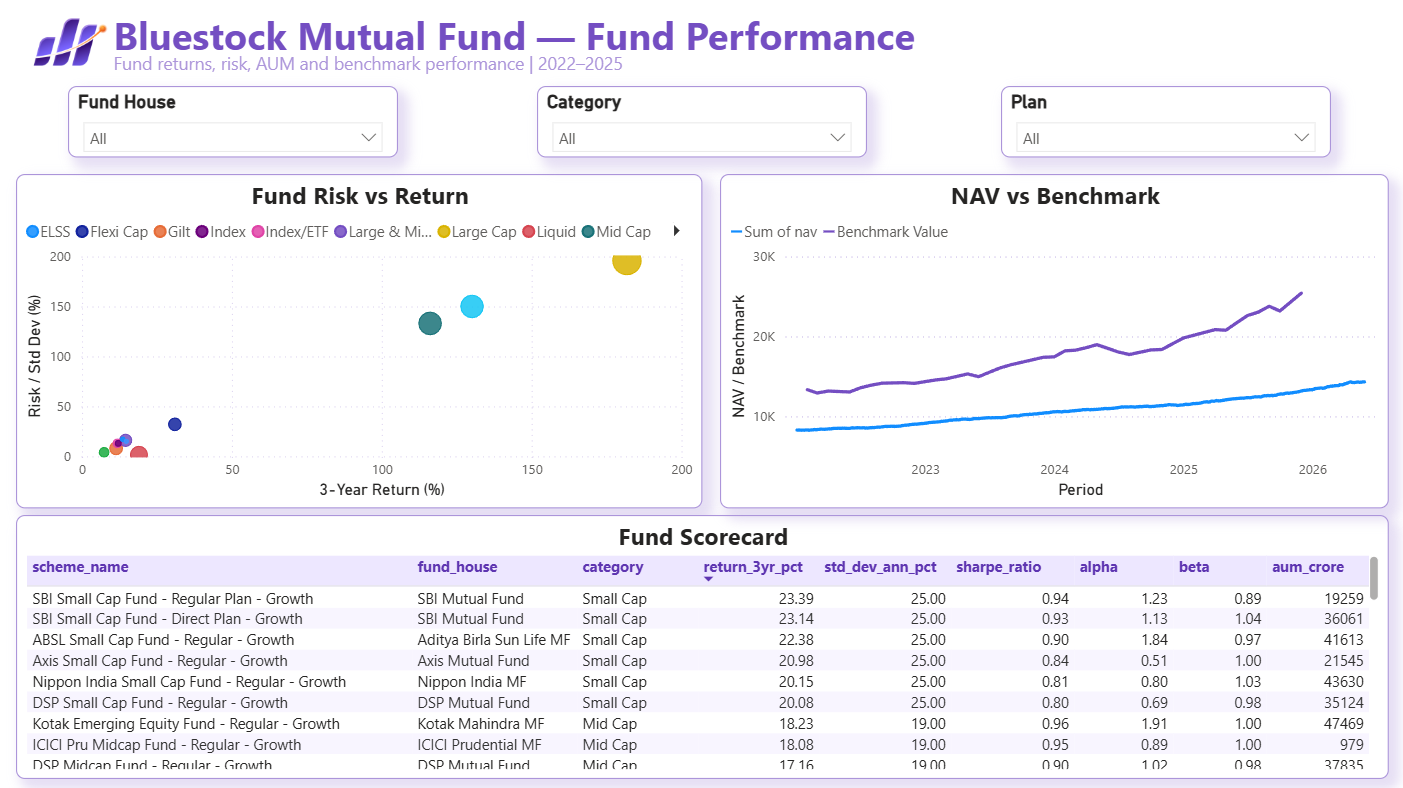

The dashboard page shown, as its layout file describes it:
{"tool":"powerbi","page":{"name":"Fund Performance","canvas":[1280,720],"ordinal":1},"visuals":[{"type":"textbox","title":"Bluestock Mutual Fund — Fund Performance","box":[100,10,1000,40],"z":0},{"type":"textbox","title":"Fund returns, risk, AUM and benchmark performance | 2022–2025","box":[100,48,1000,25],"z":1000},{"type":"scatterChart","title":"Fund Risk vs Return","fields":{"X":["Sum(07_scheme_performance_cleaned.return_3yr_pct)"],"Y":["Sum(07_scheme_performance_cleaned.std_dev_ann_pct)"],"Series":["07_scheme_performance_cleaned.category"],"Size":["Sum(07_scheme_performance_cleaned.aum_crore)"]},"box":[16,160,624,304],"z":2000},{"type":"tableEx","title":"Fund Scorecard","fields":{"Values":["07_scheme_performance_cleaned.scheme_name","07_scheme_performance_cleaned.fund_house","07_scheme_performance_cleaned.category","07_scheme_performance_cleaned.return_3yr_pct","07_scheme_performance_cleaned.std_dev_ann_pct","07_scheme_performance_cleaned.sharpe_ratio","07_scheme_performance_cleaned.alpha","07_scheme_performance_cleaned.beta","07_scheme_performance_cleaned.aum_crore"]},"box":[16,470,1248,240],"z":3000},{"type":"lineChart","title":"NAV vs Benchmark","fields":{"Category":["DateTable.Date"],"Y":["Sum(02_nav_history_cleaned.nav)","01_fund_master_cleaned.Benchmark Value"]},"box":[656,160,608,304],"z":4000},{"type":"slicer","title":"Fund House","fields":{"Values":["07_scheme_performance_cleaned.fund_house"]},"box":[64,80,300,65],"z":5000},{"type":"slicer","title":"Category","fields":{"Values":["07_scheme_performance_cleaned.category"]},"box":[490,80,300,65],"z":6000},{"type":"slicer","title":"Plan","fields":{"Values":["07_scheme_performance_cleaned.plan"]},"box":[912,80,300,65],"z":7000},{"type":"image","box":[0,0,128,80],"z":8000}]}

Visuals, with their boxes in screenshot pixels (x1, y1, x2, y2), scaled from the page's 1280x720 canvas onto the 1403x788 screenshot:
"Bluestock Mutual Fund — Fund Performance" textbox: [left=110, top=11, right=1206, bottom=55]
"Fund returns, risk, AUM and benchmark performance | 2022–2025" textbox: [left=110, top=53, right=1206, bottom=80]
"Fund Risk vs Return" scatterChart: [left=18, top=175, right=702, bottom=508]
"Fund Scorecard" tableEx: [left=18, top=514, right=1385, bottom=777]
"NAV vs Benchmark" lineChart: [left=719, top=175, right=1385, bottom=508]
"Fund House" slicer: [left=70, top=88, right=399, bottom=159]
"Category" slicer: [left=537, top=88, right=866, bottom=159]
"Plan" slicer: [left=1000, top=88, right=1328, bottom=159]
image: [left=0, top=0, right=140, bottom=88]
